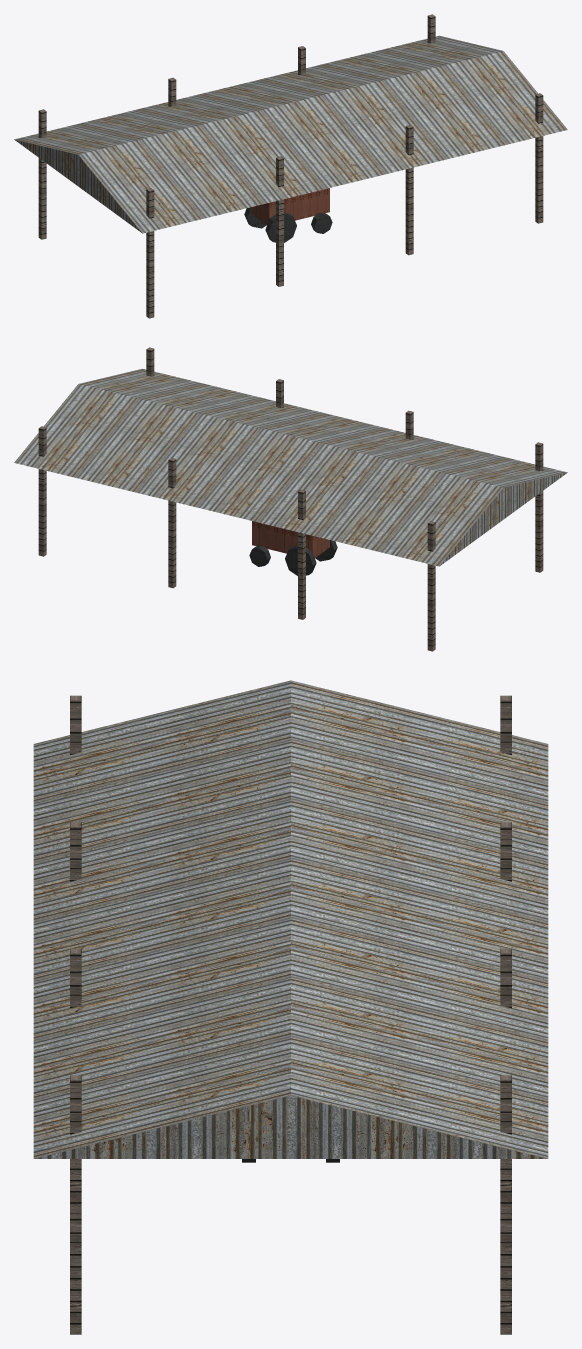
File: tractor-shed_lod0.gltf
3 renders of one model, top to bottom at view 1: azimuth 30°, elevation 25°; view 2: azimuth 150°, elevation 25°; view 3: azimuth 270°, elevation 25°, orthographic. The views are drawn at different scales.
Visible parts, largest first — view 1: tractor-shed_roof, tractor-shed__tractor_body, tractor-shed__post_0_0, tractor-shed__post_2_0, tractor-shed__post_3_0, tractor-shed__post_0_1, tractor-shed__post_1_0, tractor-shed__tractor_wheel_rl; view 2: tractor-shed_roof, tractor-shed__tractor_body, tractor-shed__post_0_1, tractor-shed__post_2_1, tractor-shed__post_3_1, tractor-shed__post_0_0, tractor-shed__post_1_1, tractor-shed__tractor_wheel_rr; view 3: tractor-shed_roof, tractor-shed__post_3_0, tractor-shed__post_3_1.
Boxes of the visible parts, x1=… form: tractor-shed_roof: x1=14, y1=35, x2=567, y2=233; tractor-shed__tractor_body: x1=252, y1=188, x2=329, y2=224; tractor-shed__post_0_0: x1=146, y1=188, x2=154, y2=318; tractor-shed__post_2_0: x1=405, y1=125, x2=413, y2=255; tractor-shed__post_3_0: x1=535, y1=93, x2=543, y2=223; tractor-shed__post_0_1: x1=38, y1=109, x2=46, y2=239; tractor-shed__post_1_0: x1=276, y1=156, x2=283, y2=286; tractor-shed__tractor_wheel_rl: x1=265, y1=212, x2=296, y2=242; tractor-shed_roof: x1=14, y1=368, x2=567, y2=566; tractor-shed__tractor_body: x1=252, y1=521, x2=329, y2=557; tractor-shed__post_0_1: x1=427, y1=521, x2=435, y2=651; tractor-shed__post_2_1: x1=168, y1=458, x2=176, y2=588; tractor-shed__post_3_1: x1=38, y1=426, x2=46, y2=556; tractor-shed__post_0_0: x1=535, y1=442, x2=543, y2=572; tractor-shed__post_1_1: x1=298, y1=489, x2=305, y2=619; tractor-shed__tractor_wheel_rr: x1=285, y1=545, x2=316, y2=575; tractor-shed_roof: x1=33, y1=680, x2=548, y2=1158; tractor-shed__post_3_0: x1=70, y1=1075, x2=81, y2=1334; tractor-shed__post_3_1: x1=500, y1=1075, x2=511, y2=1334.
Size of the model in its own units: 21 by 6 by 11.
